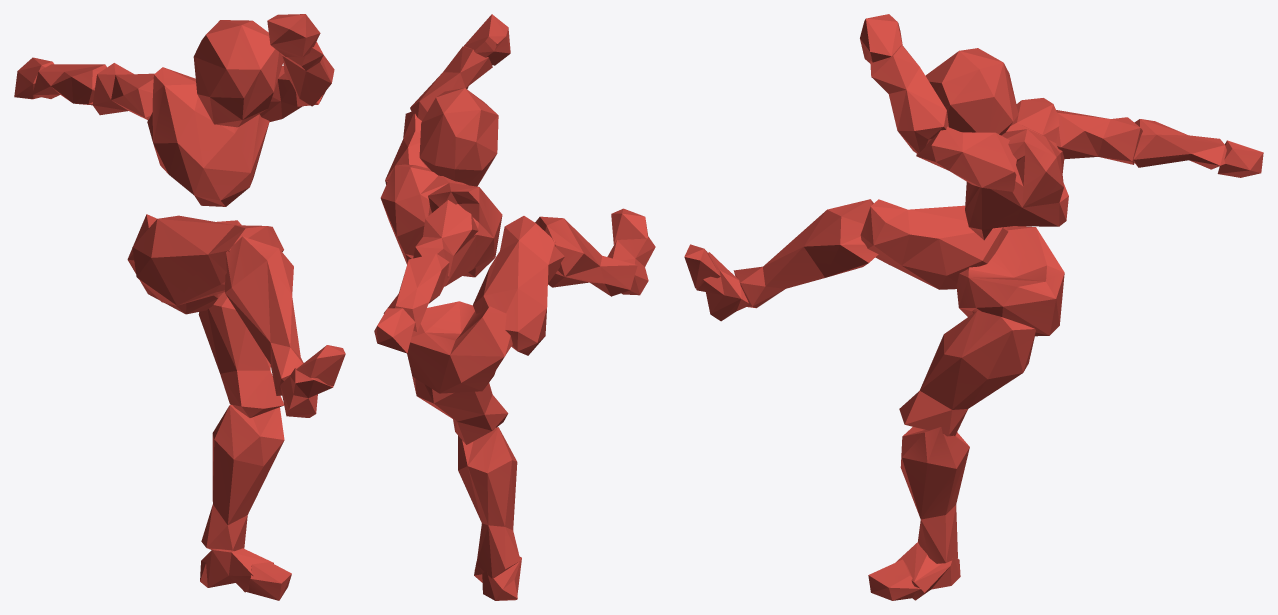
File: 2dancer0159.obj
3 views of the same model, side by side, from view 1: azimuth 30°, elevation 25°; view 2: azimuth 150°, elevation 25°; view 3: azimuth 270°, elevation 25° (orthographic). The views are drawn at different scales.
Visible parts, largest first — view 1: Beta_Surface; view 2: Beta_Surface; view 3: Beta_Surface.
Part boxes in pixels (x1=…): Beta_Surface: x1=14, y1=14, x2=345, y2=600; Beta_Surface: x1=374, y1=14, x2=655, y2=600; Beta_Surface: x1=684, y1=14, x2=1263, y2=600.
Size of the model in its own units: 0.5679 by 1.89 by 1.68.
